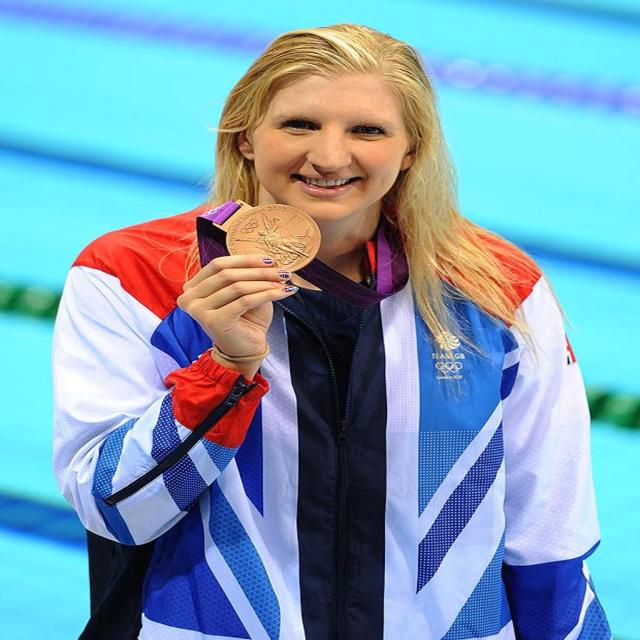Face: (249, 61, 419, 211)
